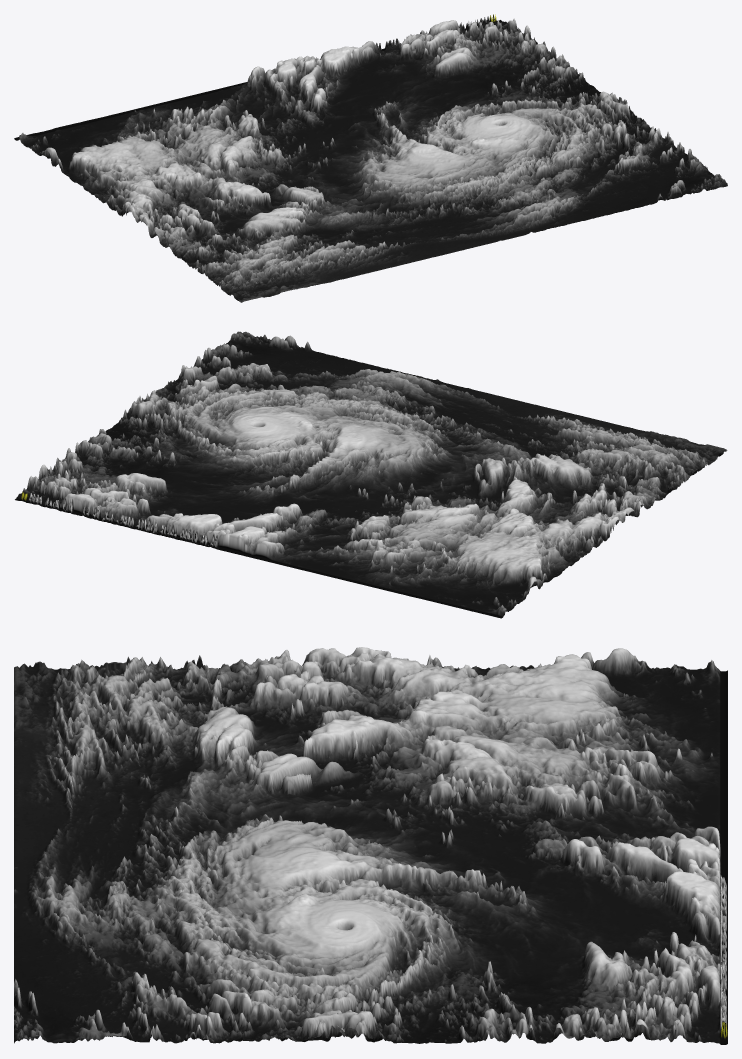
The model's file is mcd-hurricane.glb.
The picture shows the model from 3 angles, top to bottom: view 1: azimuth 30°, elevation 25°; view 2: azimuth 150°, elevation 25°; view 3: azimuth 270°, elevation 25°; orthographic projection. The views are drawn at different scales.
Visible parts, largest first — view 1: Ch13; view 2: Ch13; view 3: Ch13.
Part boxes in pixels (<box>): Ch13: <box>14,14,727,302</box>; Ch13: <box>15,331,727,618</box>; Ch13: <box>14,647,727,1044</box>.
Bounding box in the file's own units: 1300 × 46.09 × 1050.
1 material, 1 textured.
